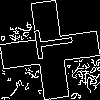T: (25, 25, 74, 62)
